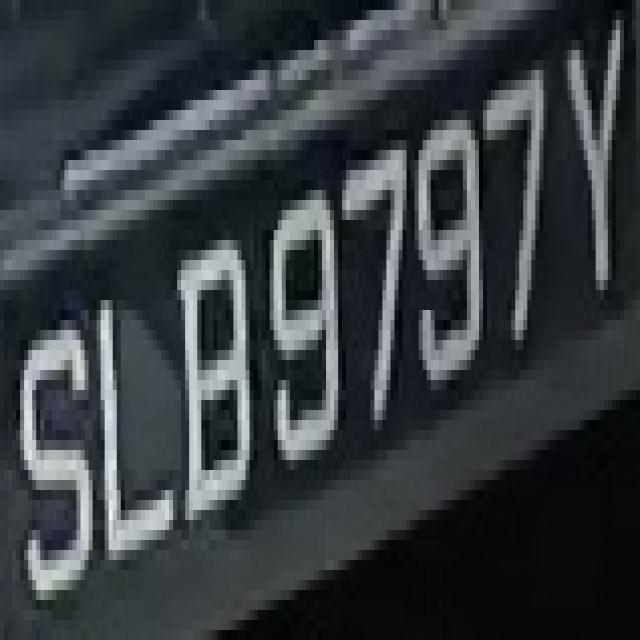7: (334, 110, 423, 440), (475, 60, 555, 350)
9: (403, 90, 499, 400), (258, 160, 350, 480)
B: (173, 210, 258, 570)
L: (85, 250, 181, 570)
S: (12, 290, 97, 630)
Y: (555, 20, 636, 320)
